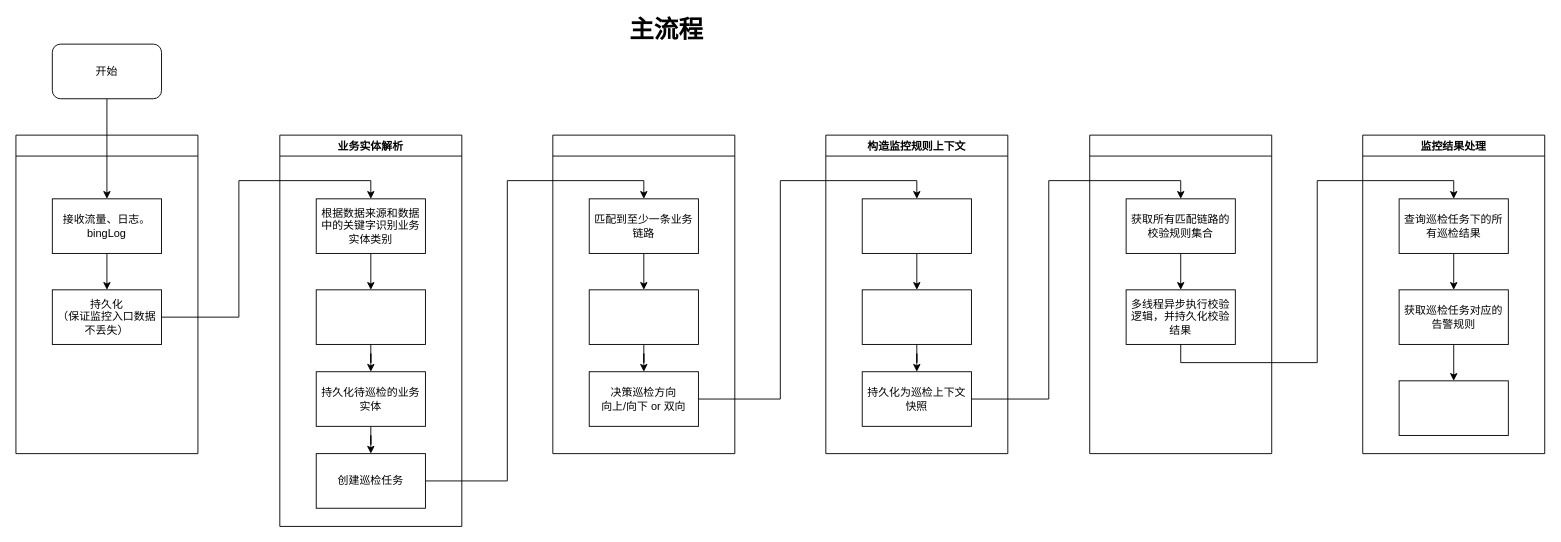
The diagram is 1561 pixels wide and 542 high, and some of its shapes have lost their labels. Here are the shapes that lost their labels. From the top down, the box of each, then its label:
(861, 198, 971, 253): 根据匹配的链路和巡检方向获取所有关联实体列表
(15, 134, 198, 454): 数据采集
(552, 134, 735, 454): 匹配监控链路
(1089, 134, 1272, 454): 执行监控规则
(315, 289, 425, 344): 通过业务实体解析规则解析业务实体ID
(588, 289, 698, 344): 根据业务实体所处链路的环节决策是否要立即执行巡检
(861, 289, 971, 344): 根据关联实体配置的详情接口，获取关联实体数据
(1398, 380, 1508, 435): 发送钉钉告警
